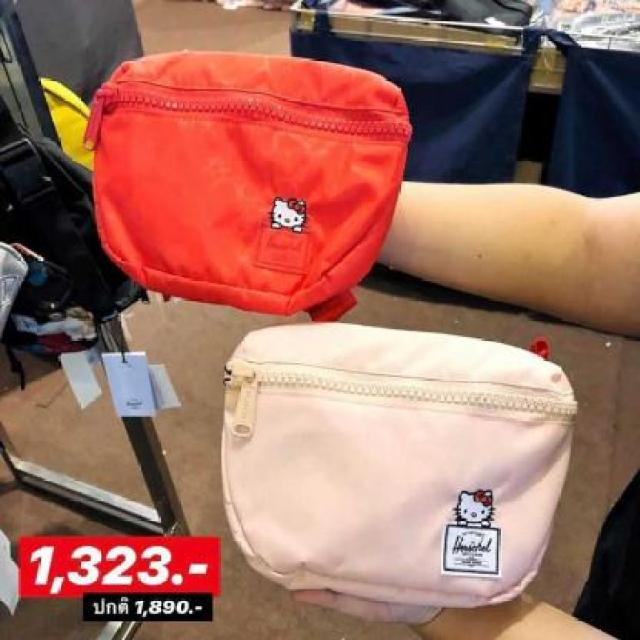Bag: (169, 300, 623, 640), (49, 22, 438, 346)
